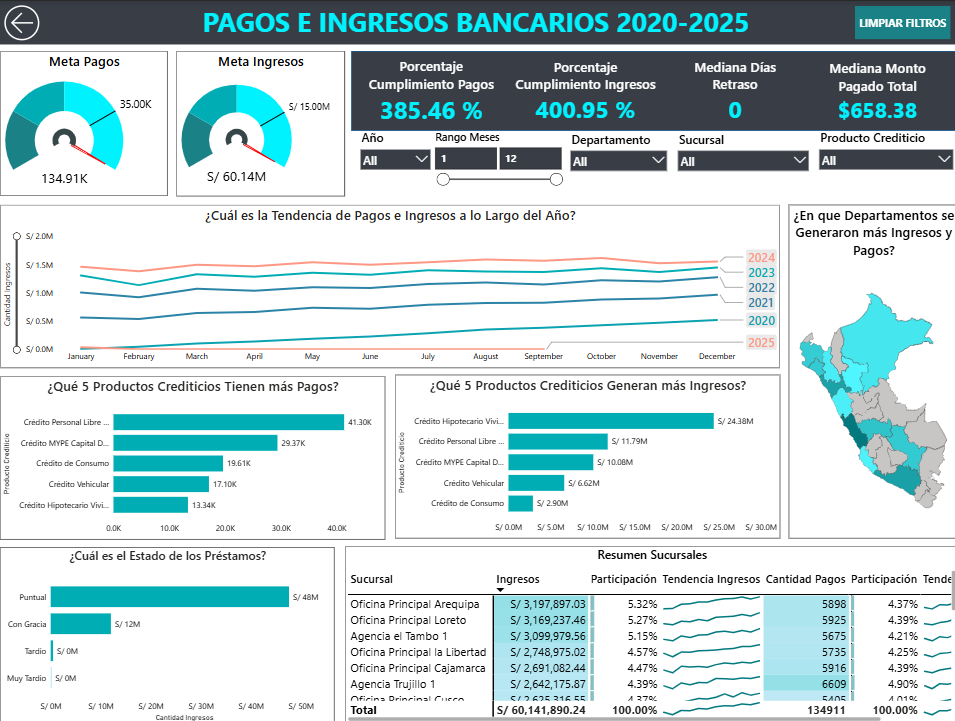

This screenshot's page, from the dashboard's own definition file:
{"tool":"powerbi","page":{"name":"Pagos-Ingresos Bancarios","canvas":[1920,1450],"ordinal":1},"visuals":[{"type":"slicer","fields":{"Values":["dim_fechas.Año"]},"box":[711.6,253.9,161.7,125],"z":0},{"type":"slicer","fields":{"Values":["dim_fechas.Numero Mes"]},"box":[865.4,259.3,266.4,171.7],"z":1000},{"type":"slicer","fields":{"Values":["dim_sucursales.departamento"]},"box":[1131.8,255.7,215,136.7],"z":2000},{"type":"slicer","fields":{"Values":["dim_sucursales.nombre_sucursal"]},"box":[1346.7,255,283.3,135],"z":3000},{"type":"slicer","fields":{"Values":["dim_productos_crediticios.nombre_producto"]},"box":[1630,253.3,290,130],"z":4000},{"type":"shape","box":[0,0,1920,87.1],"z":5000},{"type":"textbox","box":[399.9,0,1120.2,88.2],"z":6000},{"type":"clusteredBarChart","title":"¿Cuál es el Estado de los Préstamos?","fields":{"Category":["fact_pagos.estado_pago"],"Y":["Metricas.Cantidad Ingresos"]},"box":[0,1094.3,670.5,355.8],"z":8000},{"type":"pivotTable","title":"Resumen Sucursales","fields":{"Rows":["dim_sucursales.nombre_sucursal"],"Values":["Metricas.Cantidad Ingresos","Divide(Metricas.Cantidad Ingresos, ScopedEval(Metricas.Cantidad Ingresos, []))","SparklineData(Metricas.Cantidad Ingresos_[dim_fechas.Numero Mes])","Count(fact_pagos.referencia_pago)","Divide(Count(fact_pagos.referencia_pago), ScopedEval(Count(fact_pagos.referencia_pago), []))","SparklineData(Count(fact_pagos.referencia_pago)_[dim_fechas.Numero Mes])"]},"box":[690.2,1092.1,1230.2,357.6],"z":9000},{"type":"clusteredBarChart","title":"¿Qué 5 Productos Crediticios Tienen más Pagos?","fields":{"Category":["dim_productos_crediticios.nombre_producto"],"Y":["Count(fact_pagos.referencia_pago)"]},"box":[0,750.4,772,328],"z":10000},{"type":"shape","box":[703.3,100,1216.7,160],"z":12000},{"type":"Tachometer1474636471549","title":"Meta Ingresos","fields":{"Y":["Metricas.Cantidad Ingresos"],"TargetValue":["Valores Termometro Ingresos.META INGRESOS"],"StartValue":["Valores Termometro Ingresos.valor_inicio_termo_ingre"],"EndValue":["Valores Termometro Ingresos.valor_final_termo_ingreso"],"Range2StartValue":["Valores Termometro Ingresos.inicio_rango_2_termo_ingresos"],"Range3StartValue":["Valores Termometro Ingresos.inicio_rango_3_termo_ingresos"]},"box":[352.2,100.1,337.9,291.5],"z":13000},{"type":"lineChart","title":"¿Cuál es la Tendencia de Ingresos y Pagos a lo Largo del Año?","fields":{"Category":["dim_fechas.Nombre Mes"],"Series":["dim_fechas.Año"],"Y":["Metricas.Cantidad Ingresos"]},"box":[0,408.5,1563.1,326.8],"z":14000},{"type":"shapeMap","title":"¿En que Departamentos se Generaron más Ingresos y Pagos?","fields":{"Category":["dim_sucursales.departamento"],"Value":["Metricas.Cantidad Ingresos"]},"box":[1580.6,407.7,339.7,668.7],"z":15000},{"type":"clusteredBarChart","title":"¿Qué 5 Productos Crediticios Generan más Ingresos?","fields":{"Category":["dim_productos_crediticios.nombre_producto"],"Y":["Metricas.Cantidad Ingresos"]},"box":[792,750,772,328],"z":16000},{"type":"Tachometer1474636471549","title":"Meta Pagos","fields":{"Y":["Count(fact_pagos.referencia_pago)"],"TargetValue":["Valores Termometro Pagos.META PAGOS"],"StartValue":["Valores Termometro Pagos.valor_inicio_termo_pagos"],"EndValue":["Valores Termometro Pagos.valor_final_termo_pagos"],"Range2StartValue":["Valores Termometro Pagos.inicio_rango_2_termo_pagos"],"Range3StartValue":["Valores Termometro Pagos.inicio_rango_3_termo_pagos"]},"box":[0,100,336,290],"z":17000},{"type":"cardVisual","fields":{"Data":["Metricas.kpi_porcentaje_cumplimiento_pagos"]},"box":[703.3,100,321.7,160],"z":18000},{"type":"cardVisual","fields":{"Data":["Metricas.kpi_porcentaje_cumplimiento_ingresos"]},"box":[998.3,100,348.3,160],"z":19000},{"type":"cardVisual","fields":{"Data":["Median(fact_pagos.dias_retraso)"]},"box":[1346.7,100,251.7,160],"z":20000},{"type":"cardVisual","fields":{"Data":["Median(fact_pagos.rec_monto_pagado_total)"]},"box":[1598.3,100,321.7,160],"z":21000},{"type":"actionButton","box":[1714.7,10.7,191.3,66.2],"z":22000},{"type":"actionButton","box":[0,0,98.3,87.6],"z":23000}]}

Visuals, with their boxes in screenshot pixels (x1, y1, x2, y2), scaled from the page's 1920x1450 canvas onto the 955x721 screenshot:
slicer - dim_fechas.Año: Rect(354, 126, 434, 188)
slicer - dim_fechas.Numero Mes: Rect(430, 129, 563, 214)
slicer - dim_sucursales.departamento: Rect(563, 127, 670, 195)
slicer - dim_sucursales.nombre_sucursal: Rect(670, 127, 811, 194)
slicer - dim_productos_crediticios.nombre_producto: Rect(811, 126, 954, 191)
shape: Rect(0, 0, 954, 43)
textbox: Rect(199, 0, 756, 44)
"¿Cuál es el Estado de los Préstamos?" clusteredBarChart: Rect(0, 544, 334, 720)
"Resumen Sucursales" pivotTable: Rect(343, 543, 954, 720)
"¿Qué 5 Productos Crediticios Tienen más Pagos?" clusteredBarChart: Rect(0, 373, 384, 536)
shape: Rect(350, 50, 954, 129)
"Meta Ingresos" Tachometer1474636471549: Rect(175, 50, 343, 195)
"¿Cuál es la Tendencia de Ingresos y Pagos a lo Largo del Año?" lineChart: Rect(0, 203, 777, 366)
"¿En que Departamentos se Generaron más Ingresos y Pagos?" shapeMap: Rect(786, 203, 954, 535)
"¿Qué 5 Productos Crediticios Generan más Ingresos?" clusteredBarChart: Rect(394, 373, 778, 536)
"Meta Pagos" Tachometer1474636471549: Rect(0, 50, 167, 194)
cardVisual - Metricas.kpi_porcentaje_cumplimiento_pagos: Rect(350, 50, 510, 129)
cardVisual - Metricas.kpi_porcentaje_cumplimiento_ingresos: Rect(497, 50, 670, 129)
cardVisual - Median(fact_pagos.dias_retraso): Rect(670, 50, 795, 129)
cardVisual - Median(fact_pagos.rec_monto_pagado_total): Rect(795, 50, 954, 129)
actionButton: Rect(853, 5, 948, 38)
actionButton: Rect(0, 0, 49, 44)
